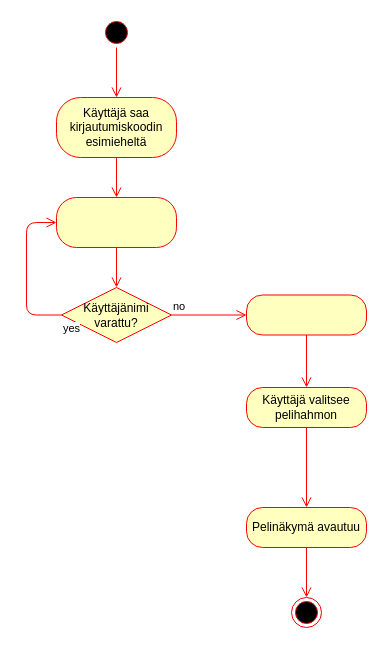
The diagram is 384 pixels wide and 645 high, and some of its shapes have lost their labels. Each missing label, with the centre of its shape:
"Käyttäjä kirjautuu sisään" belongs at point (306, 314).
"Käyttäjä luo käyttäjätunnuksen" belongs at point (116, 222).
